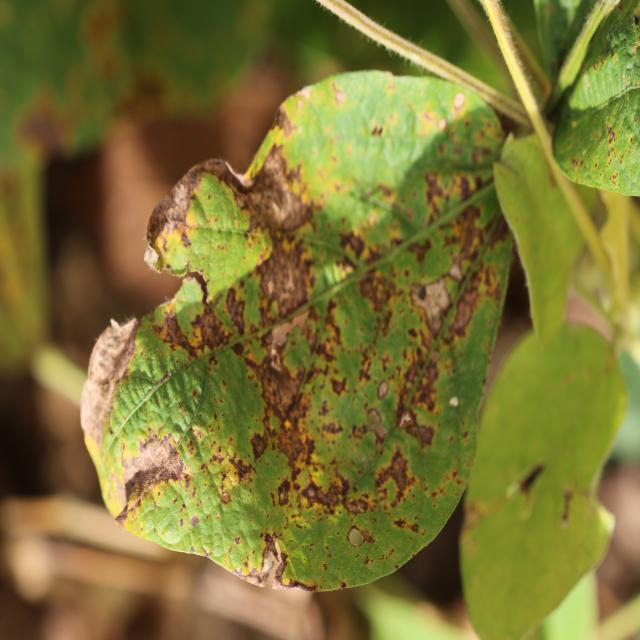Bacterial_Blight: (422, 167, 474, 220), (187, 303, 229, 351), (375, 450, 411, 501), (507, 463, 546, 508), (357, 268, 394, 313), (144, 448, 186, 486), (282, 328, 314, 376), (449, 286, 480, 335), (160, 308, 188, 347), (245, 427, 271, 465), (345, 523, 376, 549), (406, 236, 432, 266), (343, 492, 374, 516), (463, 498, 487, 529), (365, 408, 388, 440), (269, 191, 291, 222), (280, 575, 317, 593), (267, 340, 286, 375), (559, 486, 575, 525), (345, 232, 366, 259), (416, 422, 435, 447), (114, 501, 131, 528), (320, 416, 344, 435), (277, 479, 291, 506), (330, 80, 345, 104), (330, 375, 347, 395), (398, 411, 414, 430), (449, 261, 463, 282), (179, 228, 192, 249), (571, 155, 587, 172), (302, 484, 317, 502), (377, 380, 390, 400), (158, 368, 173, 385), (453, 91, 466, 110), (219, 486, 231, 505), (298, 86, 311, 102), (607, 145, 617, 164), (416, 284, 427, 301), (371, 123, 383, 137), (437, 118, 447, 132), (267, 279, 275, 296), (190, 515, 200, 527), (611, 171, 619, 184), (339, 580, 347, 590), (151, 500, 157, 511), (234, 536, 241, 545), (322, 563, 328, 571), (192, 389, 197, 398), (629, 137, 634, 145), (249, 515, 253, 522)
Soybean: (81, 72, 512, 590)
